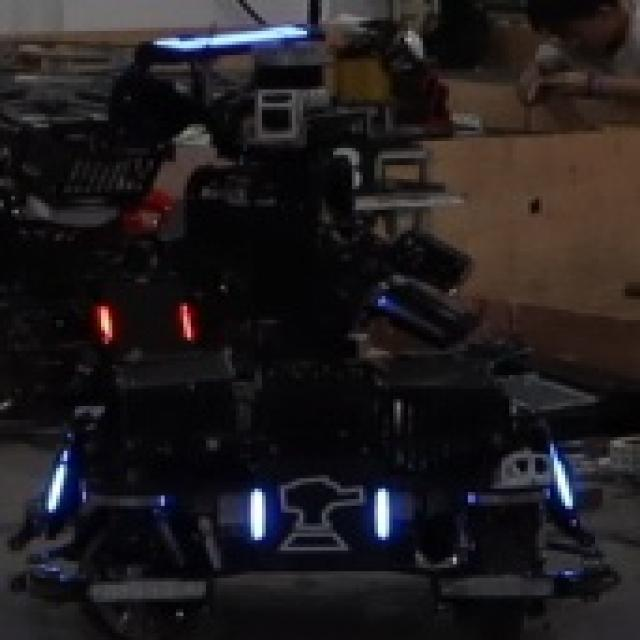Rs: (247, 472, 397, 558)
